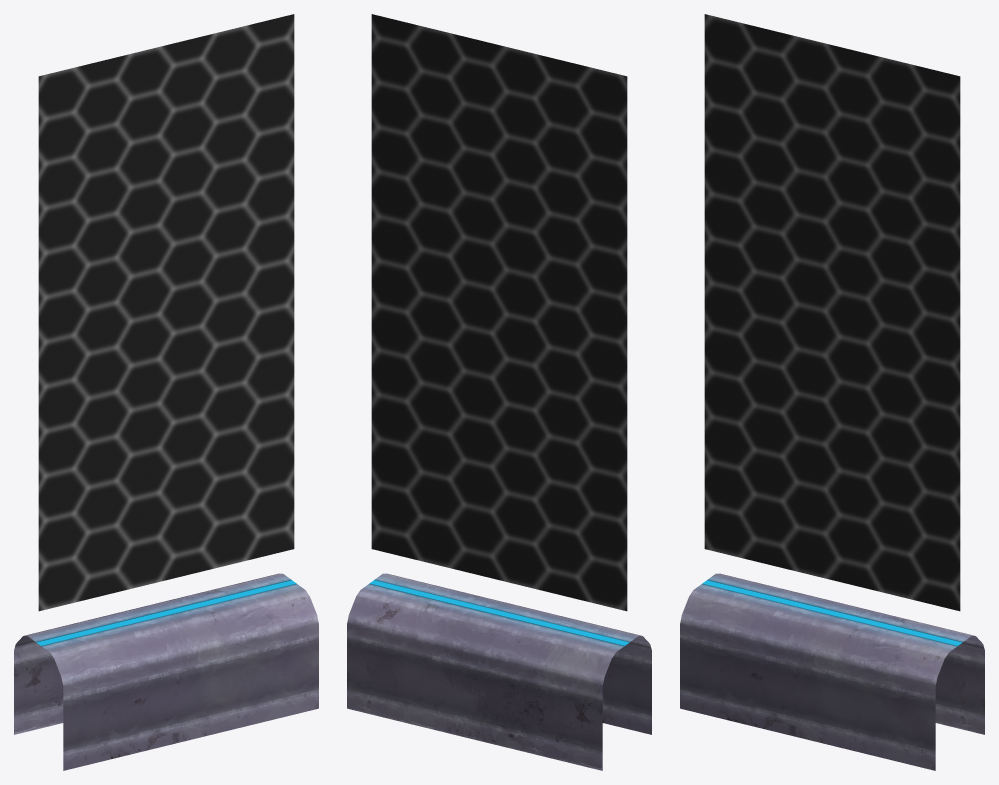
Rendered from SM_Bleachers_Wall_Short_AltUV.fbx.
3 renders of one model, left to right at view 1: azimuth 30°, elevation 25°; view 2: azimuth 150°, elevation 25°; view 3: azimuth 330°, elevation 25°, orthographic.
Visible parts, largest first — view 1: SM_Bleachers_Wall_Short_AltUV; view 2: SM_Bleachers_Wall_Short_AltUV; view 3: SM_Bleachers_Wall_Short_AltUV.
Part boxes in pixels (box(x1,y1,x2,y2)): SM_Bleachers_Wall_Short_AltUV: box(14, 14, 318, 770); SM_Bleachers_Wall_Short_AltUV: box(347, 14, 651, 770); SM_Bleachers_Wall_Short_AltUV: box(680, 14, 984, 770).
Bounding box in the file's own units: 300 × 759 × 100.
